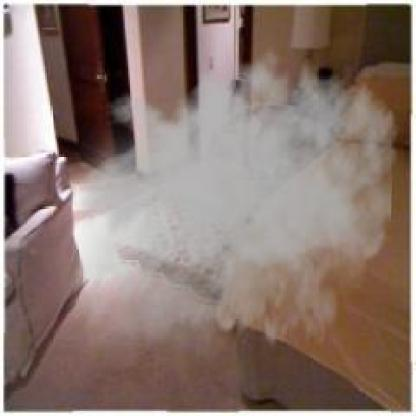Smoke: (48, 37, 400, 387)
